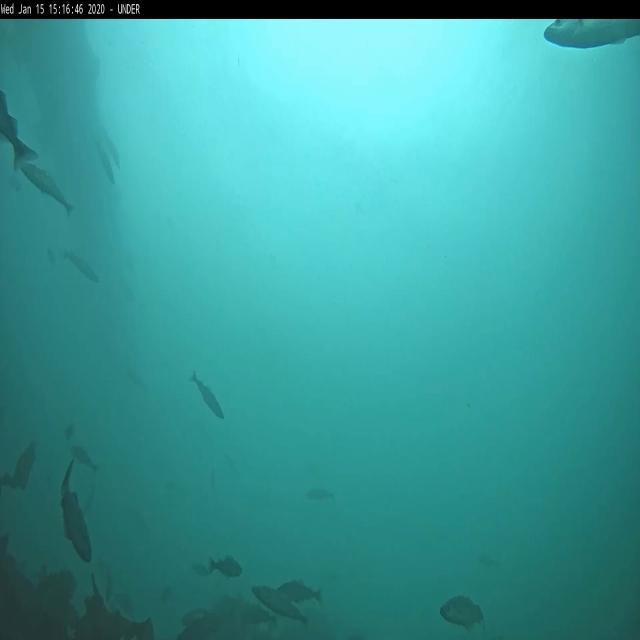fish: (63, 459, 94, 564), (544, 20, 639, 53), (20, 162, 74, 216), (1, 90, 37, 170), (251, 586, 306, 622), (190, 368, 226, 416), (438, 595, 483, 628), (63, 252, 100, 284), (276, 580, 322, 604), (96, 143, 114, 184), (72, 444, 96, 472), (210, 558, 242, 578), (102, 132, 120, 167), (306, 489, 334, 498)
